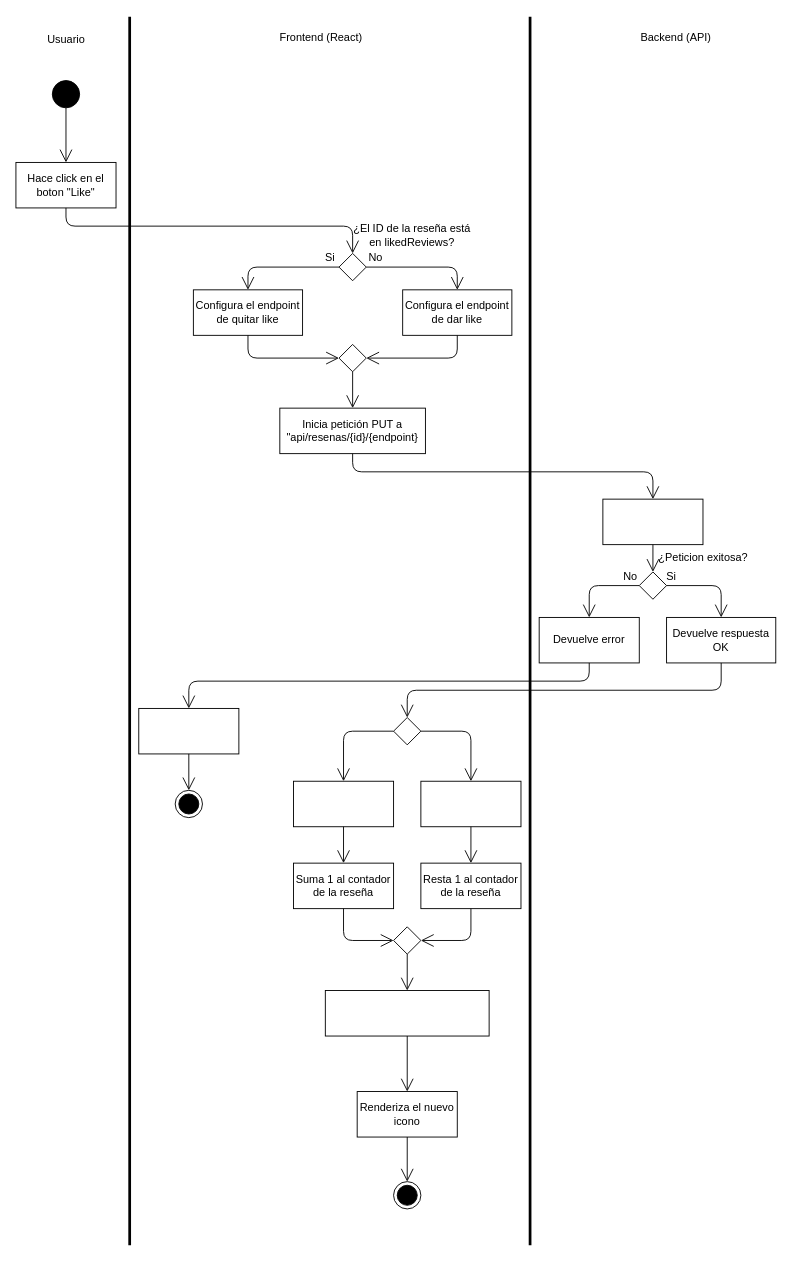
Some shapes in this 792 by 1263 pixel diagram are drawn without their labels. Each missing label, with the box of its shape:
Actualiza estados setLikedReviews y setResenas: (324, 990, 489, 1036)
Actualiza la BBDD: (602, 498, 703, 545)
Añade el ID a localStorage: (293, 780, 394, 827)
Muestra error por consola: (138, 708, 239, 754)
Quita el ID a localStorage: (420, 780, 521, 827)
